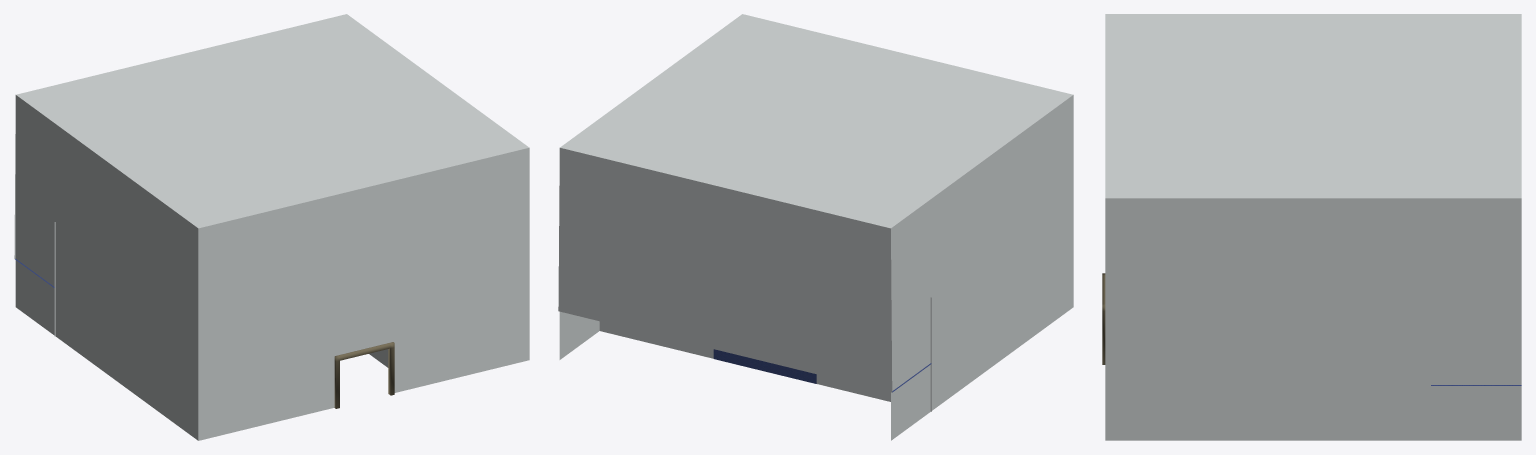
The model's file is pockitgallery.glb.
The picture shows the model from 3 angles, left to right: view 1: azimuth 30°, elevation 25°; view 2: azimuth 150°, elevation 25°; view 3: azimuth 270°, elevation 25°; orthographic projection. The views are drawn at different scales.
Parts seen in each view (by area): view 1: Plane, Cube; view 2: Plane; view 3: Plane.
Part boxes in pixels (x1,y1,x2,y2): Plane: [14, 14, 529, 440]; Cube: [334, 342, 394, 408]; Plane: [558, 14, 1073, 440]; Plane: [1105, 14, 1521, 440].
Bounding box in the file's own units: 13.98 × 8.52 × 13.35.
4 materials, 1 textured.
